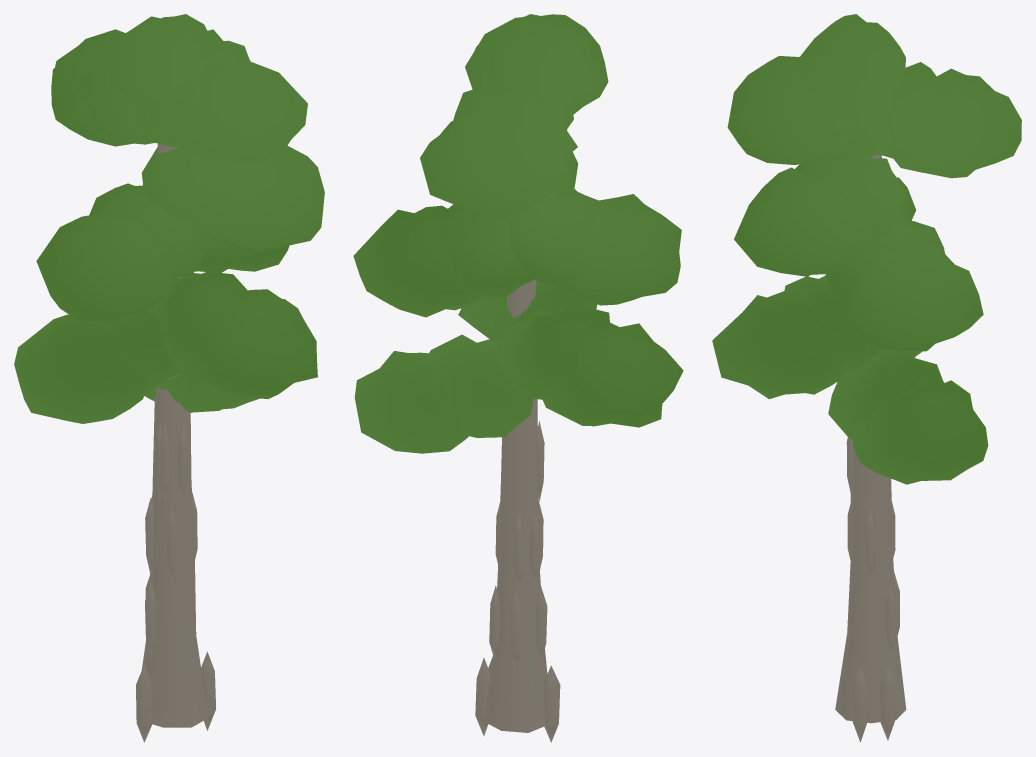
File: Blender_Shagbark_2.glb
3 views of the same model, side by side, from view 1: azimuth 30°, elevation 25°; view 2: azimuth 150°, elevation 25°; view 3: azimuth 270°, elevation 25° (orthographic). The views are drawn at different scales.
Parts seen in each view (by area): view 1: Blender_Shagbark_2; view 2: Blender_Shagbark_2; view 3: Blender_Shagbark_2.
Part boxes in pixels (box(x1,y1,x2,y2)): Blender_Shagbark_2: box(14, 14, 324, 742); Blender_Shagbark_2: box(353, 14, 683, 742); Blender_Shagbark_2: box(712, 14, 1021, 742).
Size of the model in its own units: 9.48 by 22.48 by 9.02.
